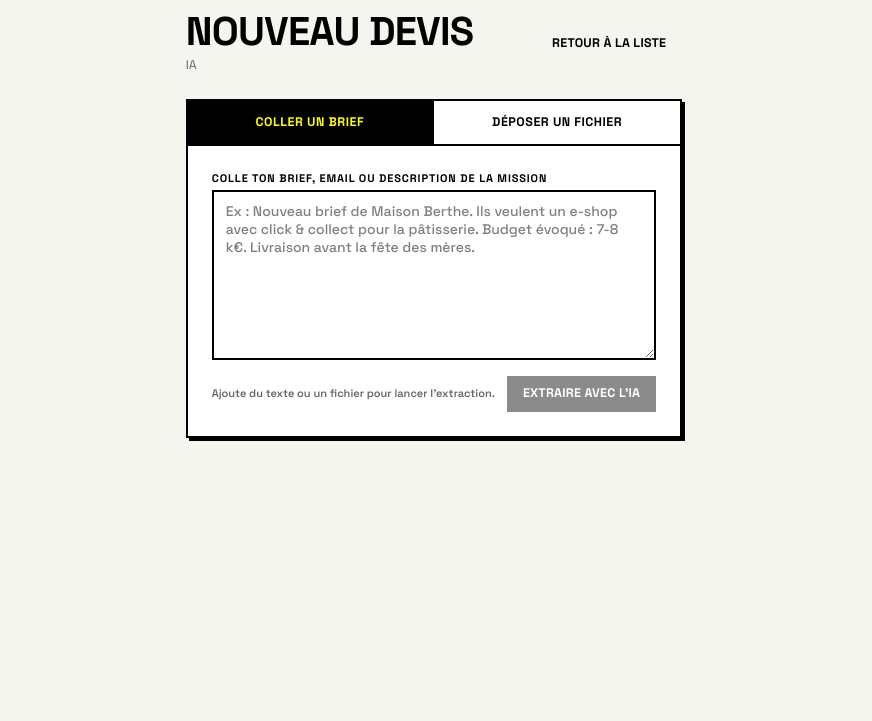
Scenario: NewAi route › affiche erreur + bouton sortie brute quand le CLI retourne une string non-JSON
Replace the text in the text box with test id "ai-brief" with "brief random": point(434, 275) [212,190,656,360]
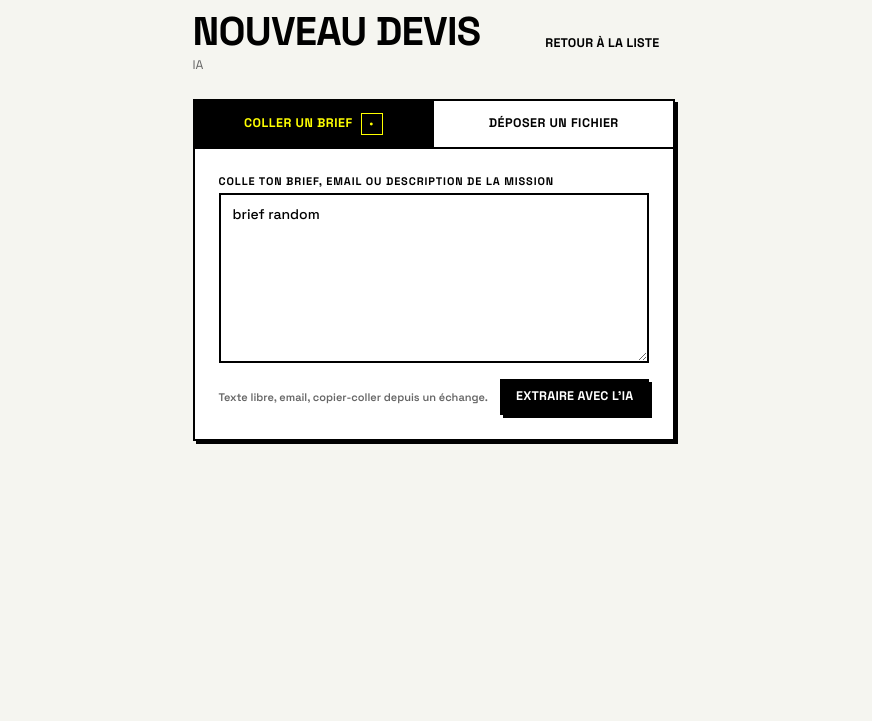
Click the button with test id "ai-extract": point(575, 397) [500,379,649,415]
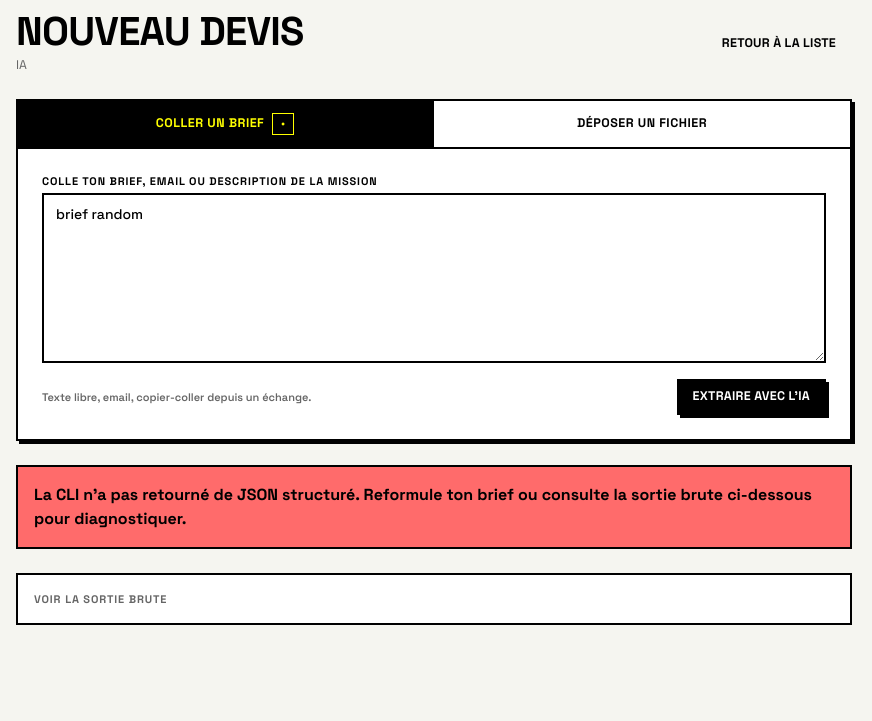
Expected: the message with test id "ai-error" is shown, [16,465,852,549]
Expected: the button with test id "ai-raw-output-toggle" is shown
Click the button with test id "ai-raw-output-toggle": point(101, 599) [34,591,834,607]
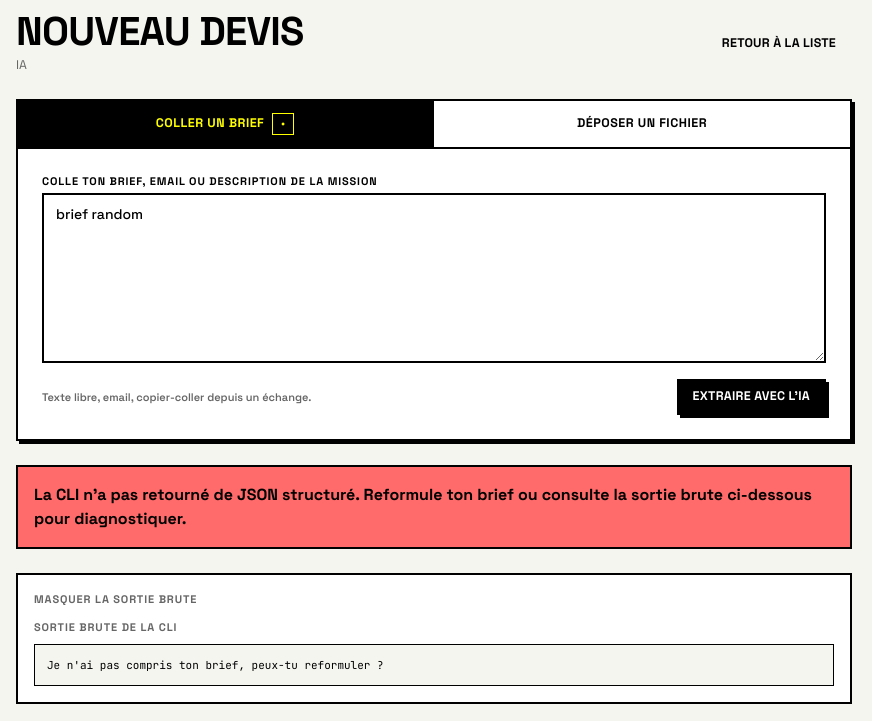
Expected: the text "Je n'ai pas compris ton brief, peux-tu reformuler ?" is shown, [34,644,834,686]
Expected: the text with test id "ai-raw-output-content" shows "reformuler", [47,658,384,672]
